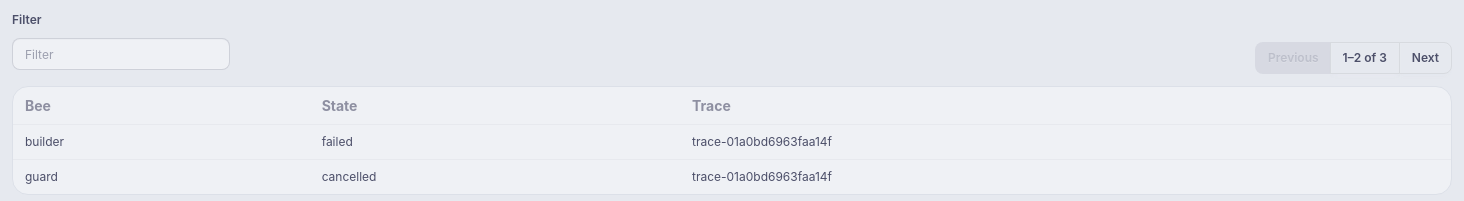
Test: DataTable › paginates and disables the edge buttons
The image size is (1464, 201).
Expected: the button "Previous" is disabled, left=1255, top=42, right=1330, bottom=74
Expected: the button "1–2 of 3" is shown, left=1330, top=42, right=1400, bottom=74
Click the button "Next": (1425, 58) left=1399, top=42, right=1452, bottom=74
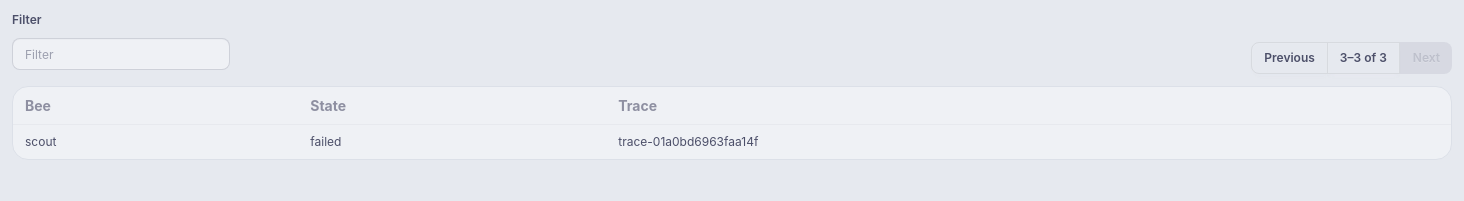
Expected: the button "3–3 of 3" is shown, left=1327, top=42, right=1400, bottom=74
Expected: the button "Next" is disabled, left=1400, top=42, right=1452, bottom=74
Expected: the button "Previous" is enabled, left=1251, top=42, right=1328, bottom=74
